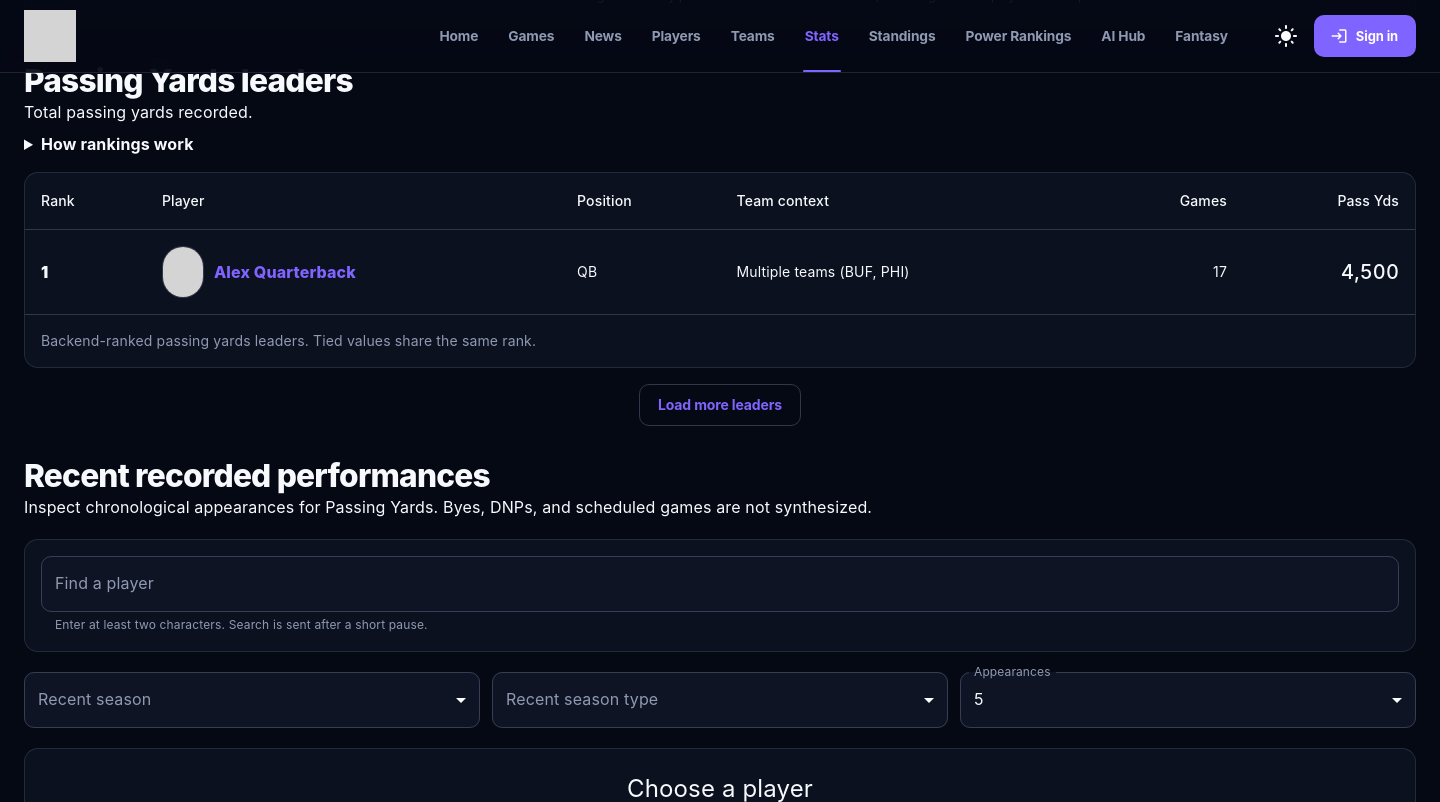
public Stats Hub page › passes opaque cursors unchanged and preserves backend rank continuity
(page scrolled)
Click the button "Load more leaders".
click(720, 405)  # box [639, 384, 801, 426]
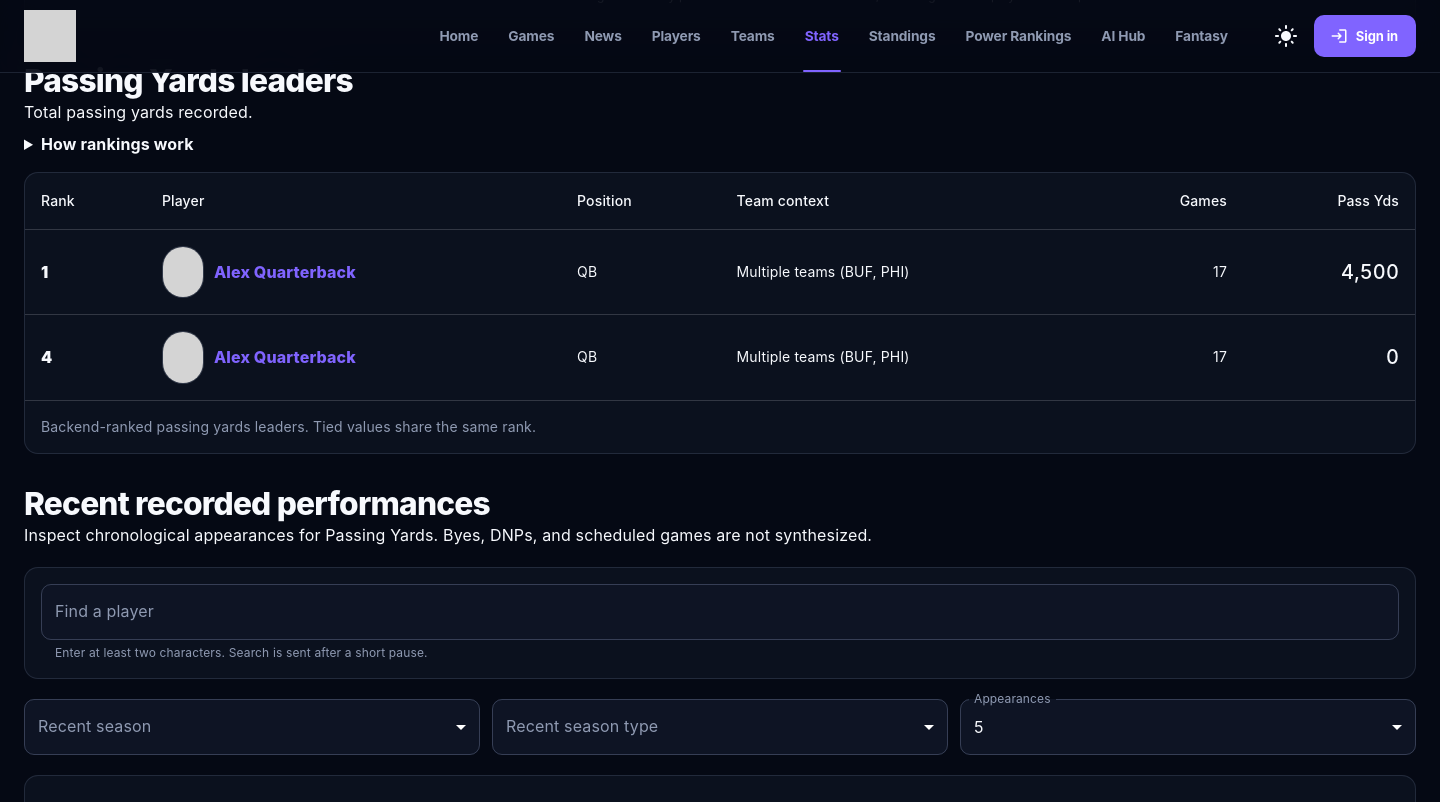
Now the text named "Rank 4" is shown, box [41, 347, 52, 367]
Now the heading "0" is shown, box [1386, 345, 1399, 369]
